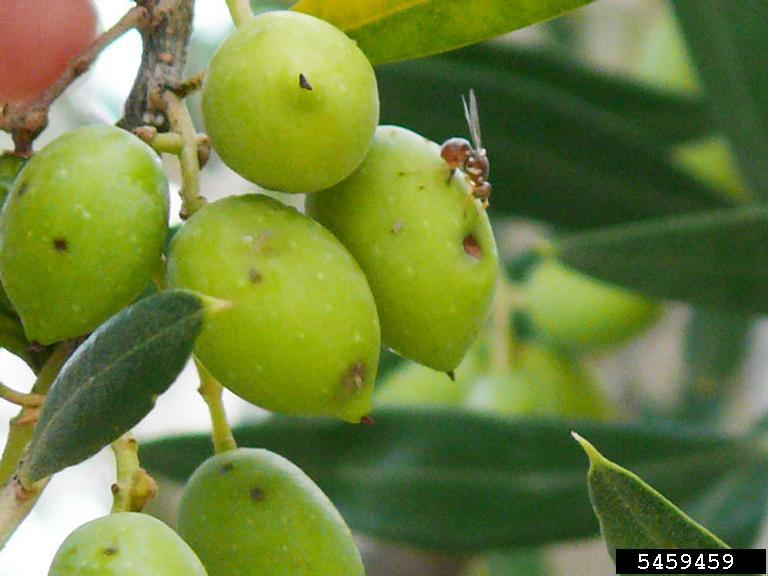Fruit fly: (415, 76, 503, 229)
